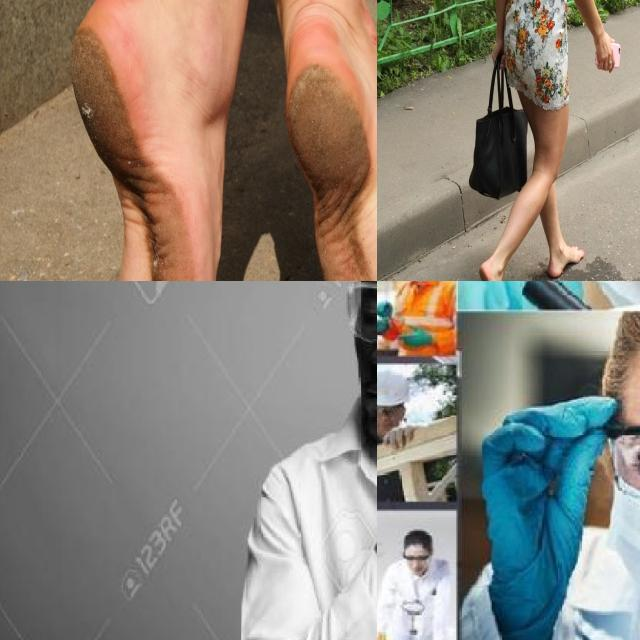Barefoots: (70, 0, 224, 281), (285, 23, 377, 281), (547, 245, 585, 278), (479, 260, 502, 281)
face_nomask: (351, 292, 377, 425), (403, 549, 430, 573), (377, 403, 400, 430)
glasses: (599, 419, 640, 514), (346, 281, 377, 358)
hand_glove: (471, 388, 614, 640), (400, 323, 430, 350), (377, 300, 394, 318), (377, 317, 391, 337)
hand_noglove: (382, 420, 418, 456)
head_helmet: (377, 371, 414, 408)
head_nohelmet: (402, 526, 432, 548)
person: (241, 281, 377, 640), (377, 527, 454, 640), (385, 281, 456, 352)
